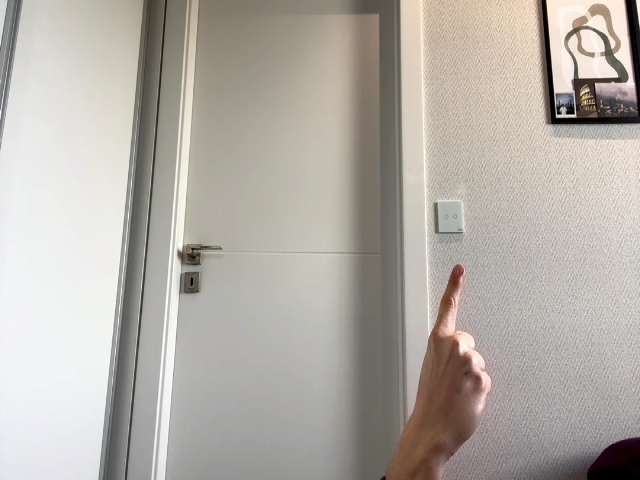D: (415, 264, 491, 454)
